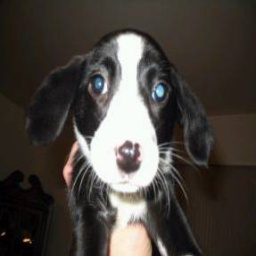dog: (21, 30, 218, 256)
